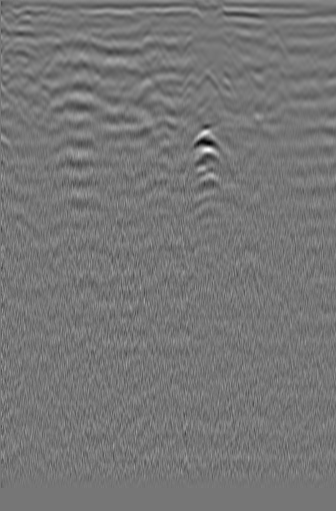가스: (181, 130, 225, 169)
상수: (284, 37, 307, 61)
오수: (3, 34, 38, 56)
우수: (135, 25, 162, 54)
